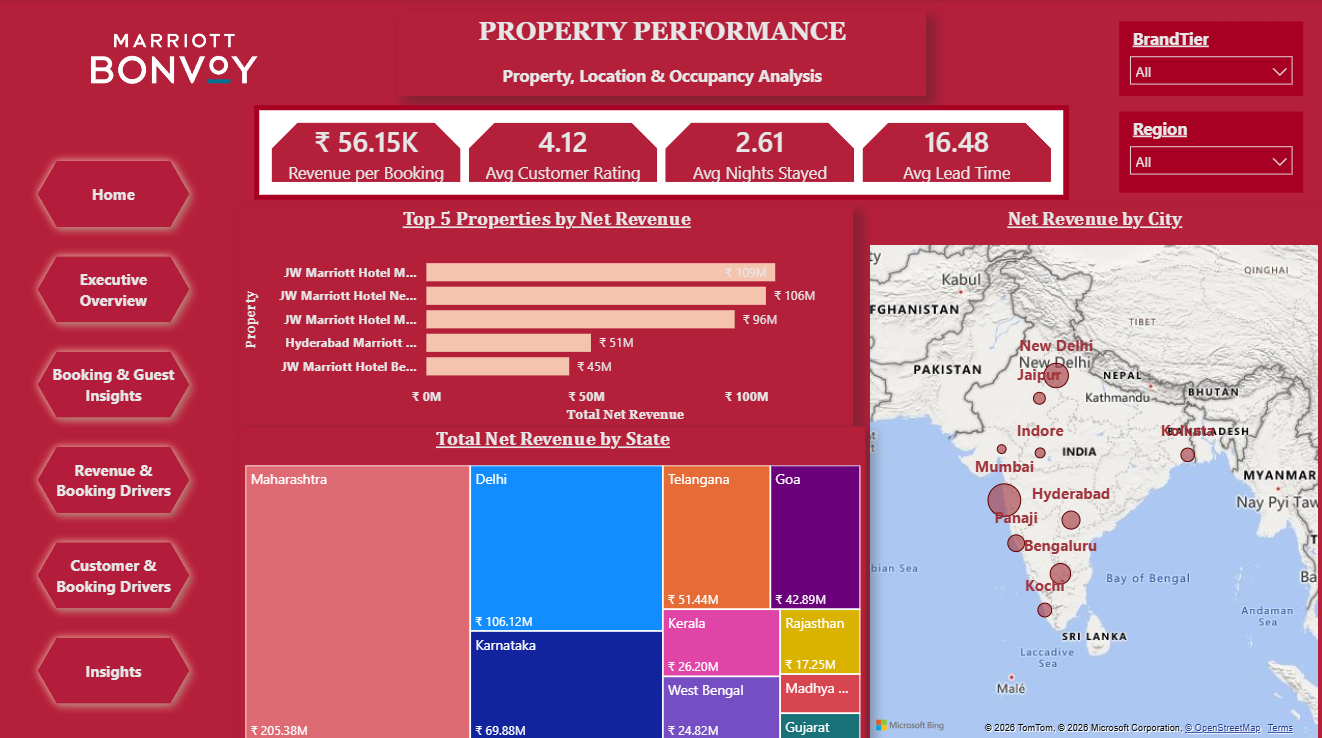

This screenshot's page, from the dashboard's own definition file:
{"tool":"powerbi","page":{"name":"Property Performance","canvas":[1280,720],"ordinal":2},"visuals":[{"type":"textbox","box":[386.4,12.2,509.9,81.9],"z":0},{"type":"cardVisual","fields":{"Data":["_Measures.Revenue per Booking","_Measures.Avg Customer Rating","_Measures.Average Nights Stayed","_Measures.Avg Lead Time"]},"box":[247.5,102.5,786.2,91.2],"z":1000},{"type":"map","title":"Net Revenue by City","fields":{"Category":["Dim_Properties.City"],"Size":["_Measures.Total Net Revenue"]},"box":[837.3,200.3,442.8,520],"z":2000},{"type":"clusteredBarChart","title":"Top 5 Properties by Net Revenue","fields":{"Category":["Dim_Properties.PropertyName"],"Y":["_Measures.Total Net Revenue"]},"box":[234,200.3,591.2,212.3],"z":3000},{"type":"treemap","fields":{"Group":["Dim_Properties.State"],"Values":["_Measures.Total Net Revenue"]},"box":[234,412.6,603.2,307.6],"z":4000},{"type":"slicer","fields":{"Values":["Dim_Properties.BrandTier"]},"box":[1082.2,21.7,177.3,72.1],"z":5000},{"type":"slicer","fields":{"Values":["Dim_Properties.Region"]},"box":[1082.2,108.6,177.3,78.3],"z":6000},{"type":"pageNavigator","box":[29,147.2,165.3,544.1],"z":7000},{"type":"image","box":[33.8,0,272.7,115.8],"z":8000}]}

Visuals, with their boxes in screenshot pixels (x1, y1, x2, y2), scaled from the page's 1280x720 canvas onto the 1322x738 screenshot:
textbox: <box>399,13,926,96</box>
cardVisual - _Measures.Revenue per Booking x _Measures.Avg Customer Rating: <box>256,105,1068,199</box>
"Net Revenue by City" map: <box>865,205,1321,737</box>
"Top 5 Properties by Net Revenue" clusteredBarChart: <box>242,205,852,423</box>
treemap - Dim_Properties.State x _Measures.Total Net Revenue: <box>242,423,865,737</box>
slicer - Dim_Properties.BrandTier: <box>1118,22,1301,96</box>
slicer - Dim_Properties.Region: <box>1118,111,1301,192</box>
pageNavigator: <box>30,151,201,709</box>
image: <box>35,0,317,119</box>
